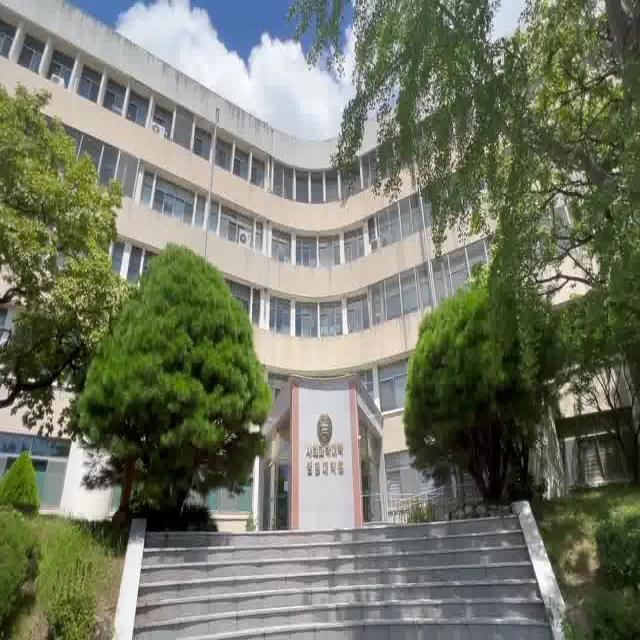building: (262, 190, 422, 532)
